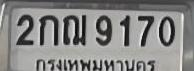0: (158, 15, 174, 46)
1: (119, 14, 129, 45)
2: (15, 14, 33, 45)
7: (137, 15, 153, 46)
9: (95, 14, 111, 45)
A01: (38, 14, 58, 45)
A12: (62, 14, 86, 45)
BKK: (34, 55, 158, 71)
